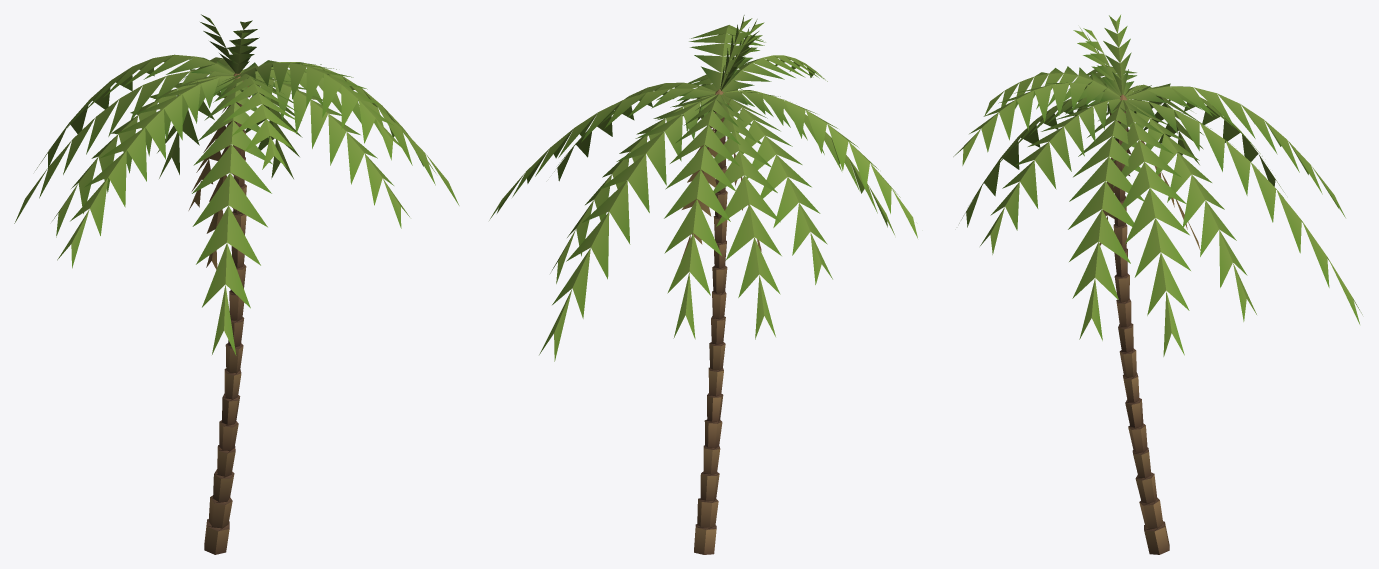
File: palm_tall_a.glb
The picture shows the model from 3 angles, left to right: view 1: azimuth 30°, elevation 25°; view 2: azimuth 150°, elevation 25°; view 3: azimuth 270°, elevation 25°; orthographic projection. The views are drawn at different scales.
Visible parts, largest first — view 1: palm_tall_a_leaf, palm_tall_a_solid; view 2: palm_tall_a_leaf, palm_tall_a_solid; view 3: palm_tall_a_leaf, palm_tall_a_solid.
Part boxes in pixels (x1=…): palm_tall_a_leaf: x1=14, y1=14, x2=459, y2=355; palm_tall_a_solid: x1=204, y1=73, x2=250, y2=554; palm_tall_a_leaf: x1=489, y1=15, x2=917, y2=361; palm_tall_a_solid: x1=694, y1=89, x2=730, y2=554; palm_tall_a_leaf: x1=953, y1=15, x2=1362, y2=356; palm_tall_a_solid: x1=1107, y1=94, x2=1169, y2=554.
Bounding box in the file's own units: 9.98 × 12.68 × 9.08.
